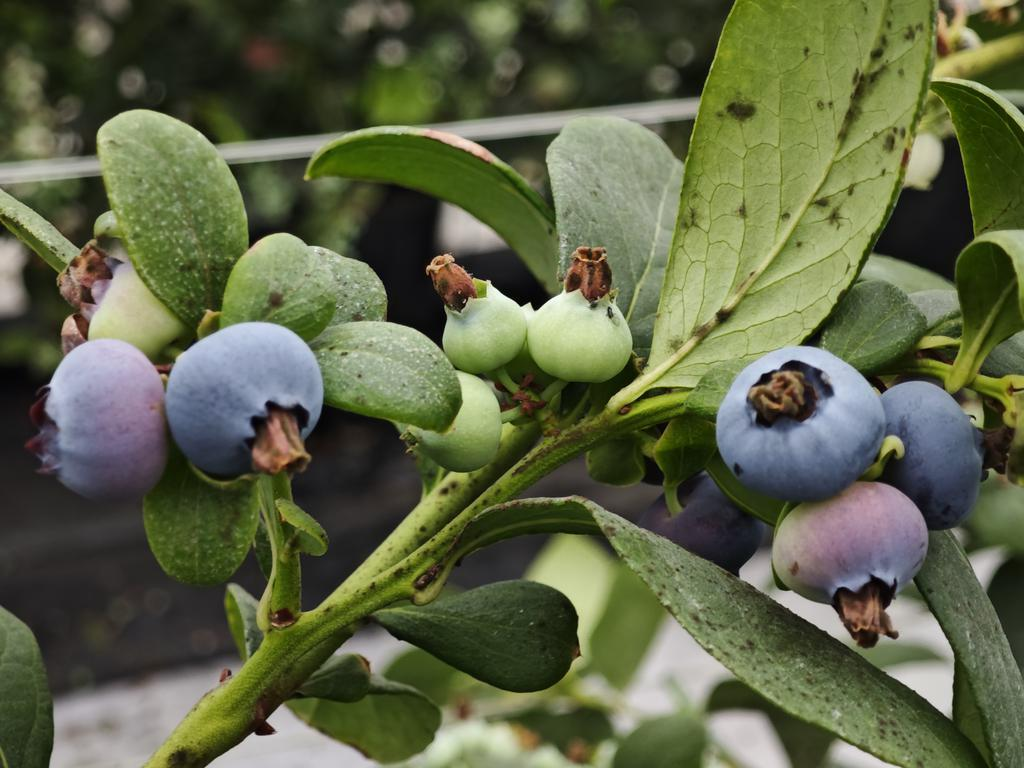RipeBlueBerry: (710, 343, 889, 501), (162, 319, 328, 479)
Semi-RipeBlueBerry: (32, 335, 170, 505), (769, 480, 932, 609)
